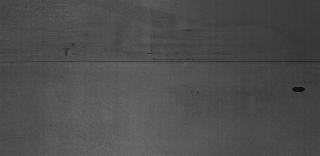punching hole: (292, 85, 306, 95)
welding line: (2, 55, 316, 67)
